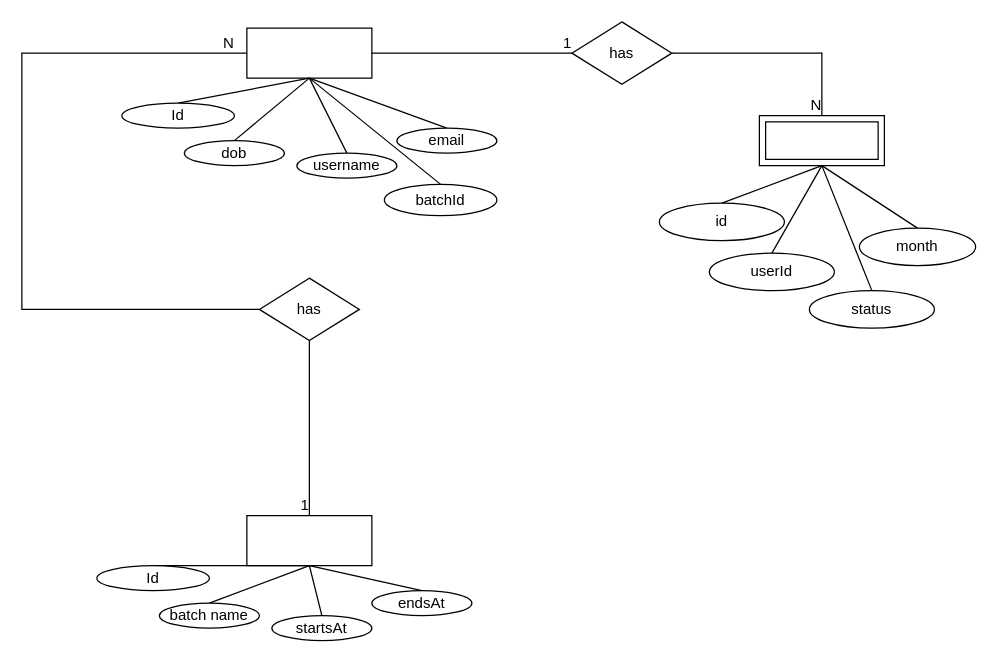
Image size: 998x663. Some labels were removed from this diagram. Each missing label, with the centre of its shape:
"Batch" goes at point 309,540.
"Payment" goes at point 821,140.
"User" goes at point 309,52.
